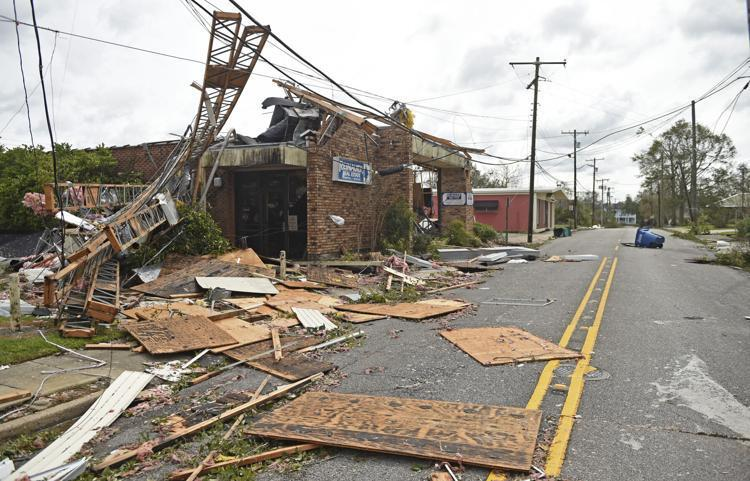major: (0, 70, 499, 328)
